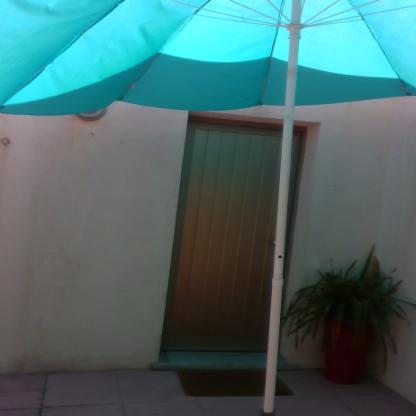door: (190, 125, 284, 351)
